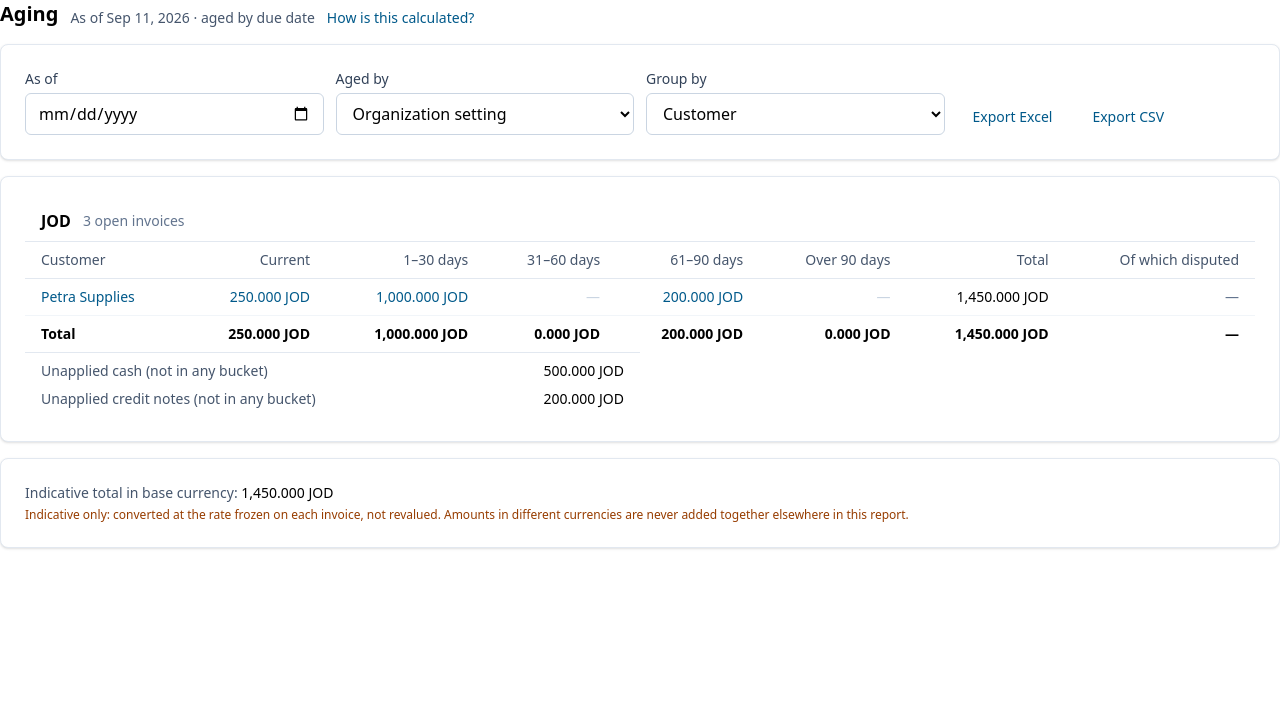
it: aging report (slice 4 AC-19) › shows the header facts, server totals, unapplied lines, the indicative disclaimer, and drills through a cell
Expected: the text with test id "aging-header" shows "aged by due date", [70,8,315,27]
Expected: the element with test id "total-Days1To30" reads "1,000.000 JOD", [374,324,468,343]
Click the button with test id "cell-Days1To30". click: (422, 297)
box: [376,287,468,307]
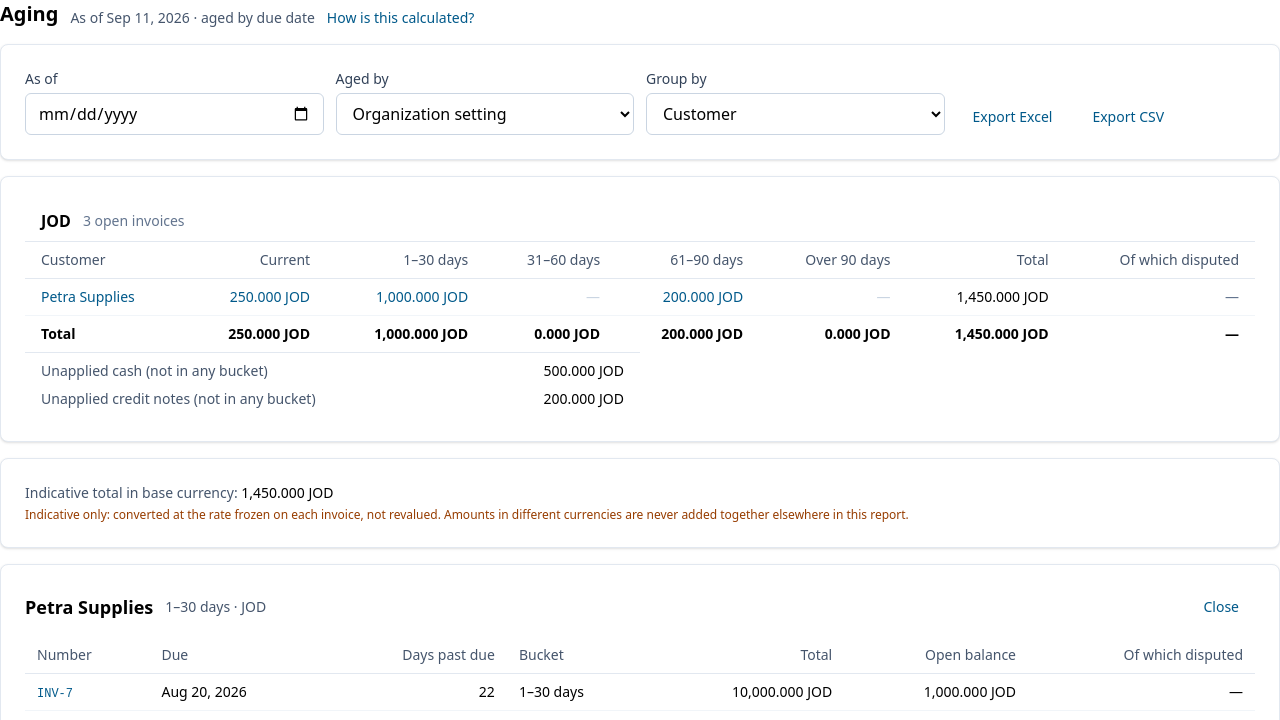
Now the table with test id "drill-table" is shown, box [25,637,1255,711]
Now the row with test id "drill-row" shows "INV-7", box [37,682,73,701]
Now the row with test id "drill-row" shows "22", box [479,682,495,701]
Click the button with test id "explain-toggle". click: (401, 18)
box: [327,8,474,28]
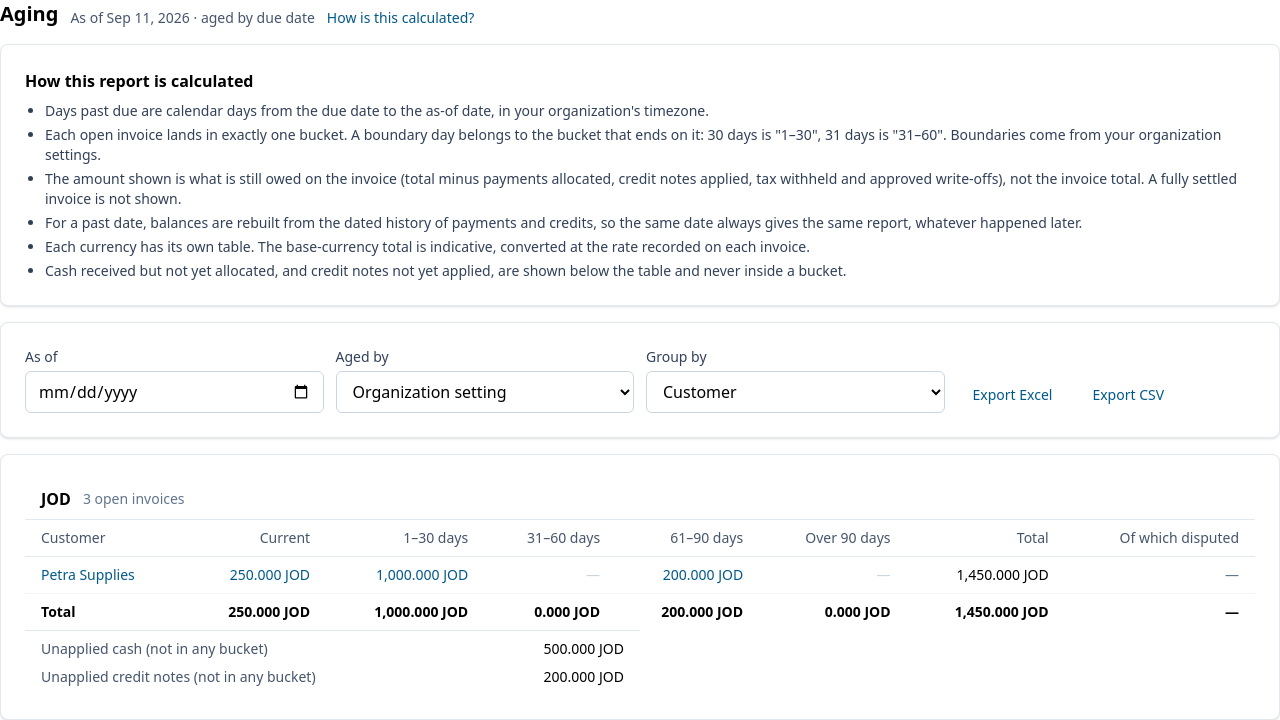
Now the list with test id "explanation" shows "exactly one bucket", box [45,125,1222,164]
